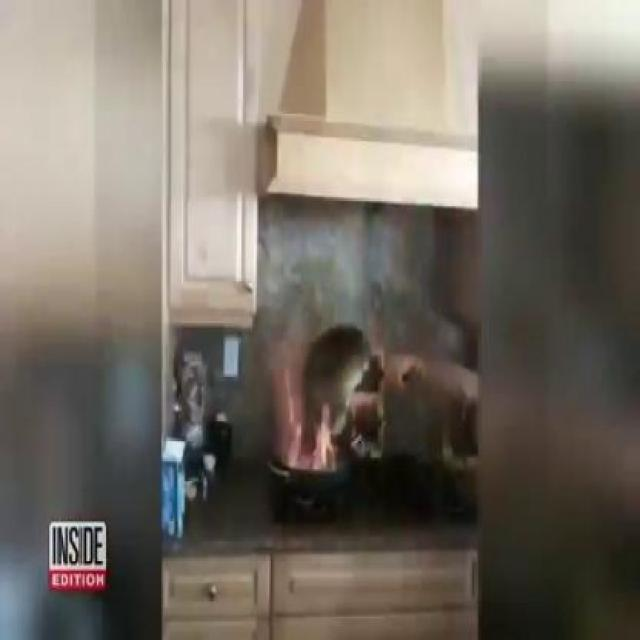fire: (264, 332, 348, 474)
